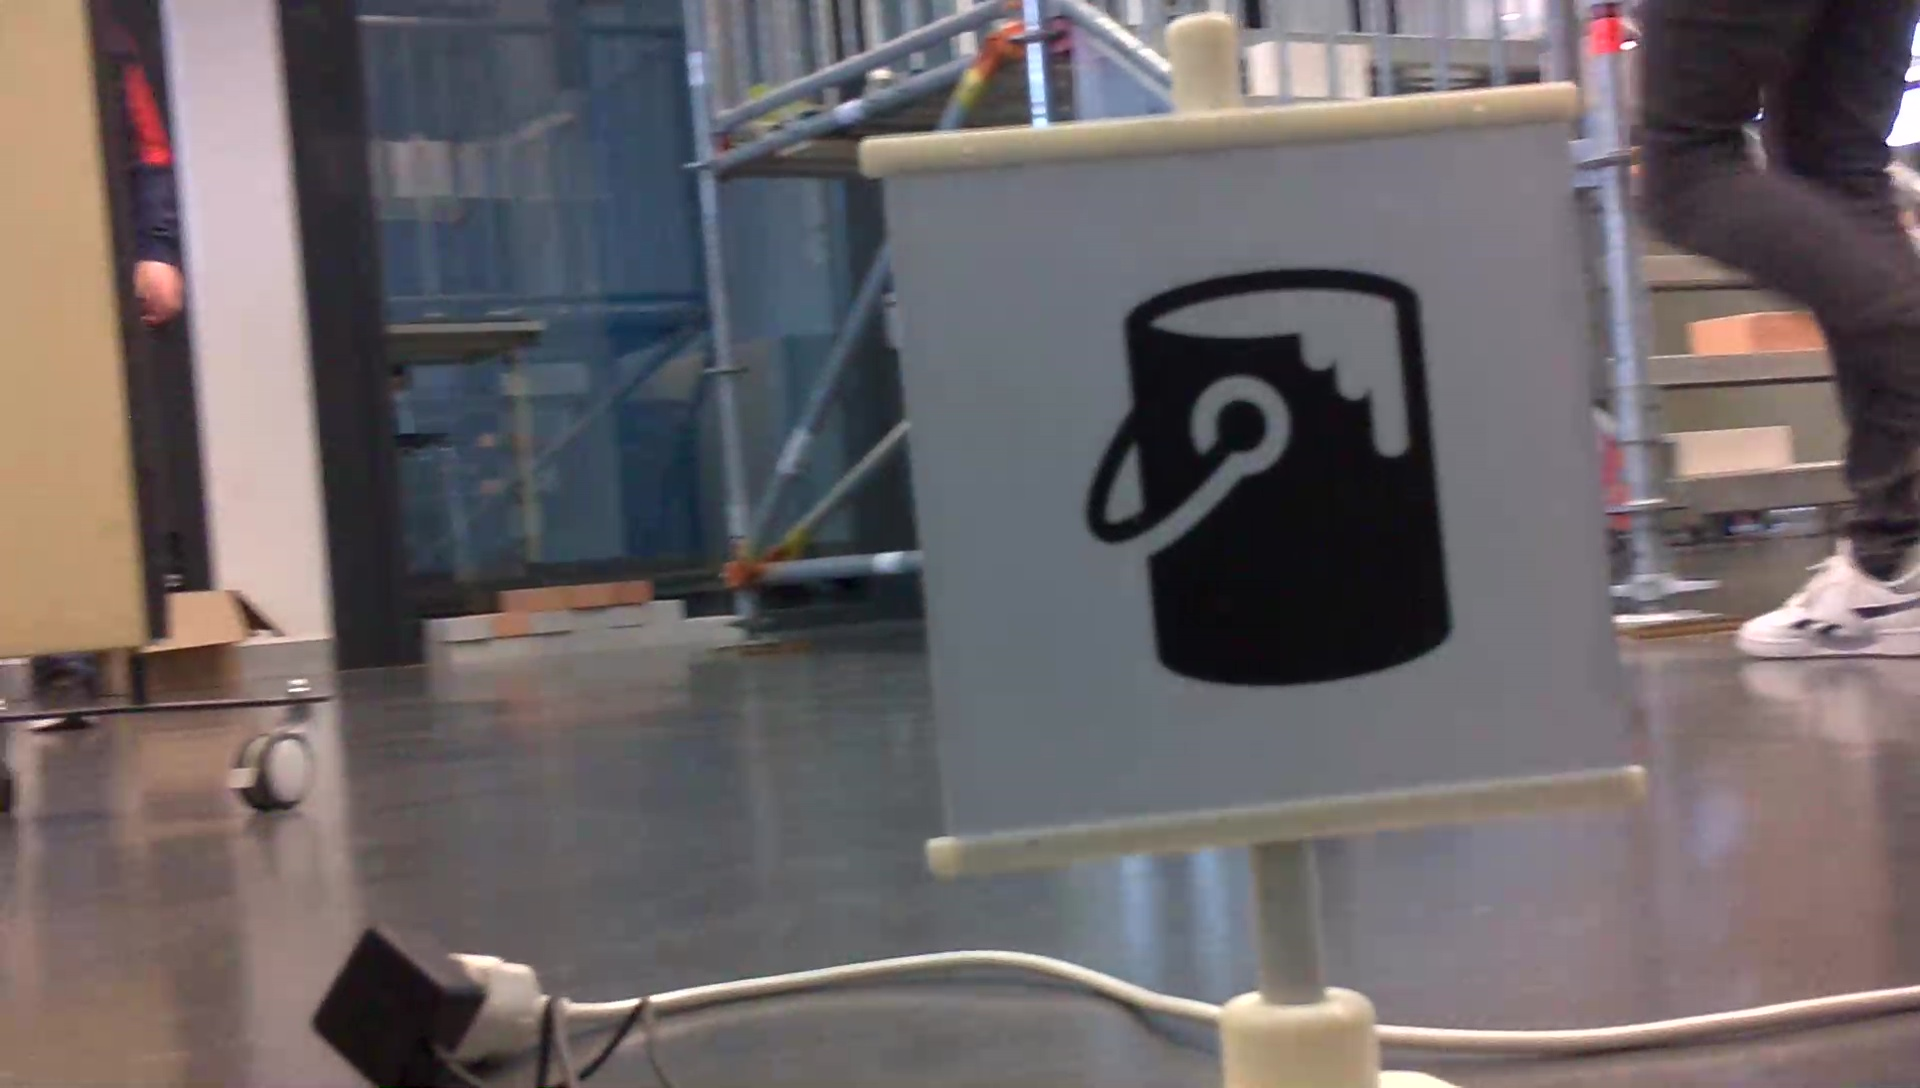brick: (1669, 427, 1791, 471), (1688, 313, 1818, 348)
bucket: (1077, 258, 1465, 698)
